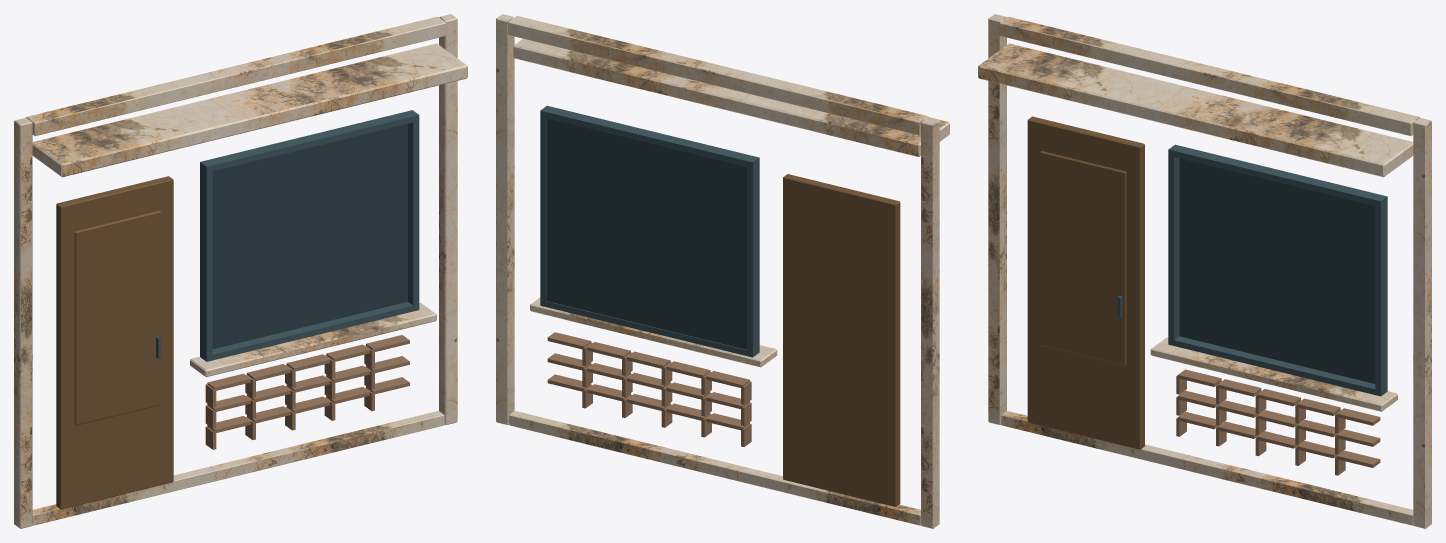
The model's file is facade_tropical_apartment_ground.glb.
The picture shows the model from 3 angles, left to right: view 1: azimuth 30°, elevation 25°; view 2: azimuth 150°, elevation 25°; view 3: azimuth 330°, elevation 25°; orthographic projection.
Visible parts, largest first — view 1: facade_tropical_apartment_ground__VVK_concrete_CC0, facade_tropical_apartment_ground__VVK_weathered_wood, facade_tropical_apartment_ground__VVK_dark_glass, facade_tropical_apartment_ground__VVK_painted_steel, facade_tropical_apartment_ground__VVK_masonry; view 2: facade_tropical_apartment_ground__VVK_concrete_CC0, facade_tropical_apartment_ground__VVK_dark_glass, facade_tropical_apartment_ground__VVK_weathered_wood, facade_tropical_apartment_ground__VVK_masonry, facade_tropical_apartment_ground__VVK_painted_steel; view 3: facade_tropical_apartment_ground__VVK_concrete_CC0, facade_tropical_apartment_ground__VVK_weathered_wood, facade_tropical_apartment_ground__VVK_dark_glass, facade_tropical_apartment_ground__VVK_painted_steel, facade_tropical_apartment_ground__VVK_masonry.
Part boxes in pixels (<box>): facade_tropical_apartment_ground__VVK_concrete_CC0: <box>14,14,467,528</box>; facade_tropical_apartment_ground__VVK_weathered_wood: <box>56,176,173,509</box>; facade_tropical_apartment_ground__VVK_dark_glass: <box>212,124,407,349</box>; facade_tropical_apartment_ground__VVK_painted_steel: <box>156,110,419,361</box>; facade_tropical_apartment_ground__VVK_masonry: <box>205,335,409,449</box>; facade_tropical_apartment_ground__VVK_concrete_CC0: <box>496,14,949,528</box>; facade_tropical_apartment_ground__VVK_dark_glass: <box>546,118,746,349</box>; facade_tropical_apartment_ground__VVK_weathered_wood: <box>783,174,900,506</box>; facade_tropical_apartment_ground__VVK_masonry: <box>547,332,751,446</box>; facade_tropical_apartment_ground__VVK_painted_steel: <box>540,105,759,357</box>; facade_tropical_apartment_ground__VVK_concrete_CC0: <box>978,14,1431,528</box>; facade_tropical_apartment_ground__VVK_weathered_wood: <box>1027,116,1144,449</box>; facade_tropical_apartment_ground__VVK_dark_glass: <box>1179,158,1375,383</box>; facade_tropical_apartment_ground__VVK_painted_steel: <box>1117,144,1387,396</box>; facade_tropical_apartment_ground__VVK_masonry: <box>1176,369,1380,475</box>.
Bounding box in the file's own units: 3.4 × 3 × 0.448.
5 materials, 1 textured.
